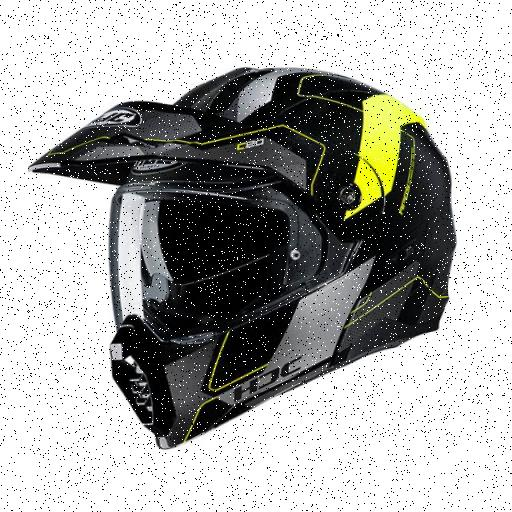Helmet: (31, 68, 455, 447)
